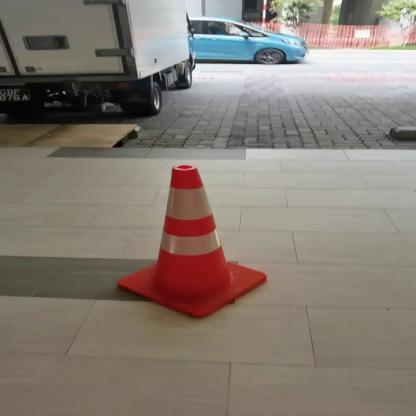cone: (124, 152, 274, 332)
